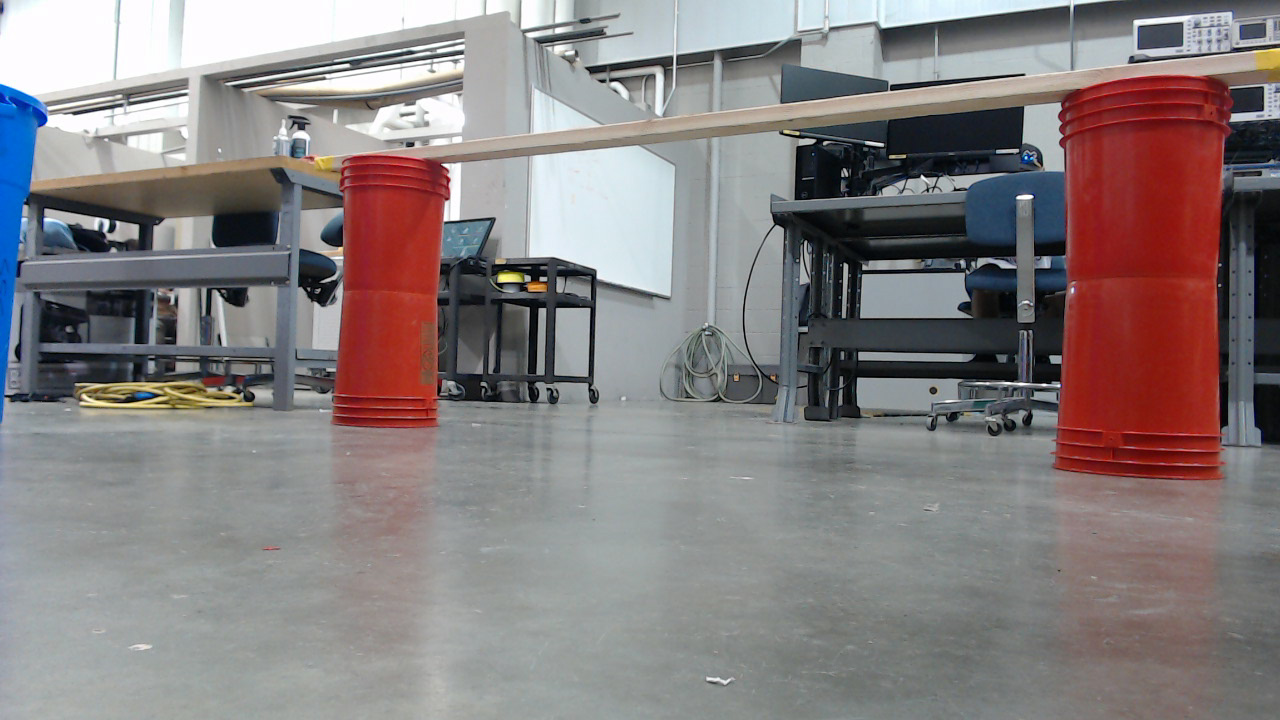red_bucket_arch: (332, 52, 1246, 491)
